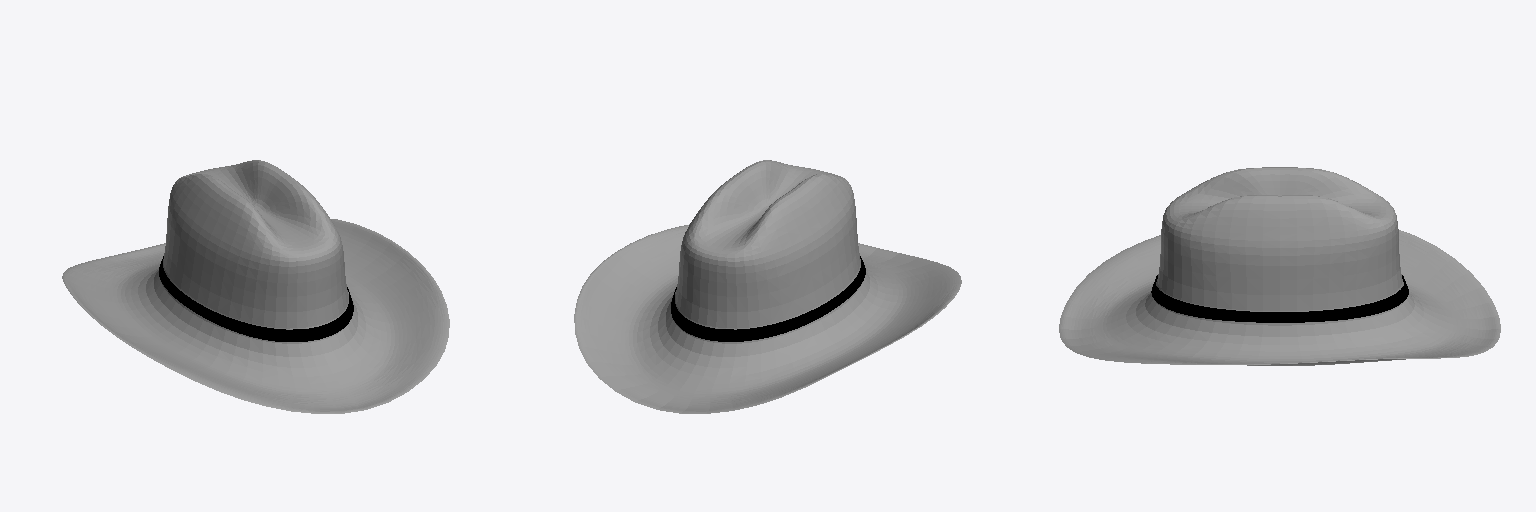
The model's file is cowboy_hat_straw.obj.
The picture shows the model from 3 angles: view 1: azimuth 30°, elevation 25°; view 2: azimuth 150°, elevation 25°; view 3: azimuth 270°, elevation 25°; orthographic projection.
Visible parts, largest first — view 1: Circle.001_None; view 2: Circle.001_None; view 3: Circle.001_None.
Part boxes in pixels (left/top/right/bottom): Circle.001_None: left=62, top=160, right=449, bottom=413; Circle.001_None: left=574, top=160, right=961, bottom=413; Circle.001_None: left=1059, top=167, right=1500, bottom=365.
Size of the model in its own units: 0.1895 by 0.0876 by 0.2376.